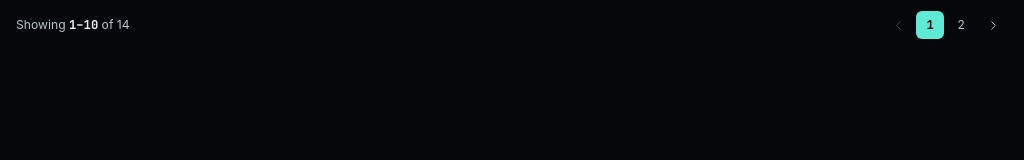
Test: TablePager › advances the range when Next is clicked
Click the button named "Next page" at {"x": 993, "y": 25}, box top-left (978, 11), bottom-right (1008, 39)
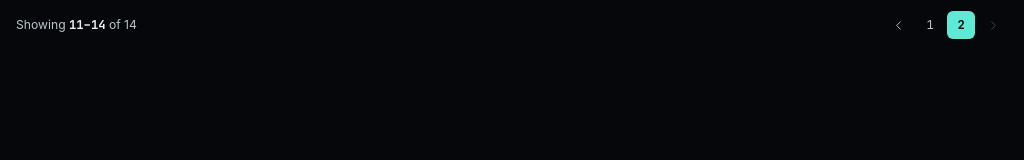
Check: the text "11–14" is shown, box top-left (69, 17), bottom-right (106, 33)
